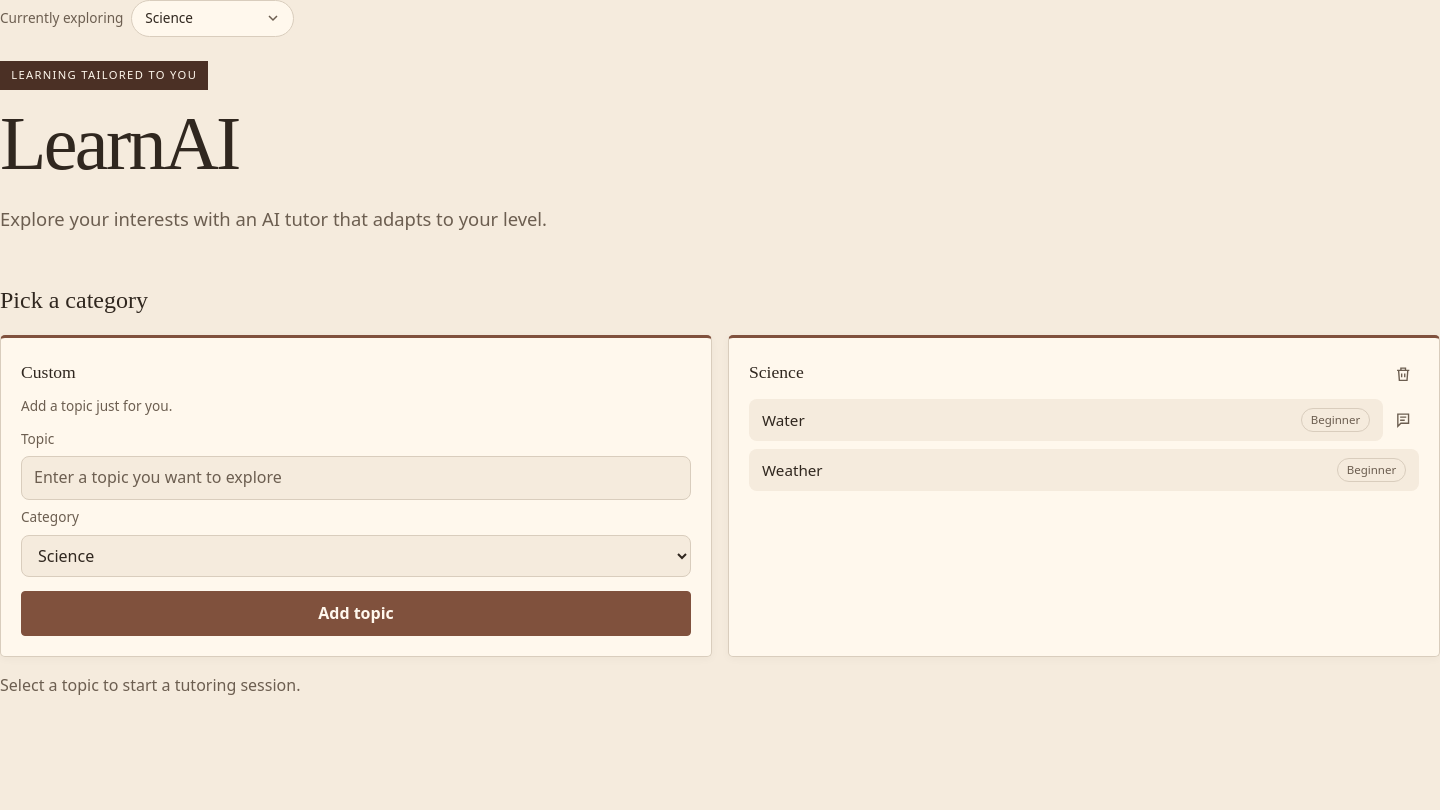
Scenario: previews a saved note without opening the tutor and closes with Escape
Click the button named "Notes for Water": (1403, 420) [1387,404,1419,436]
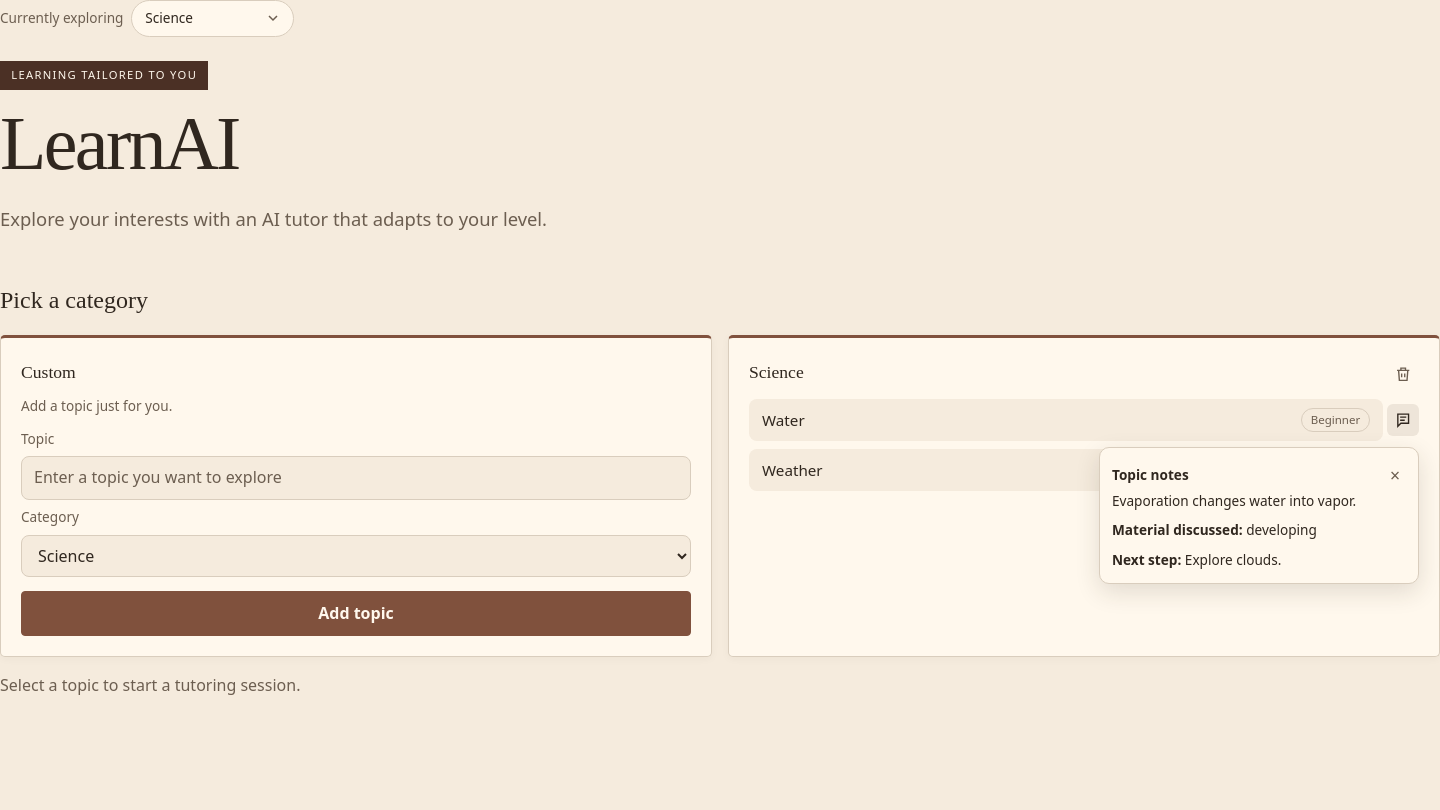
Result: the text "Evaporation changes water into vapor." is shown at [1112,491,1356,510]
Result: the text "Next step: Explore clouds." is shown at [1112,550,1281,569]
Result: the button named "Notes for Water" is expanded at [1387,404,1419,436]
Press Escape
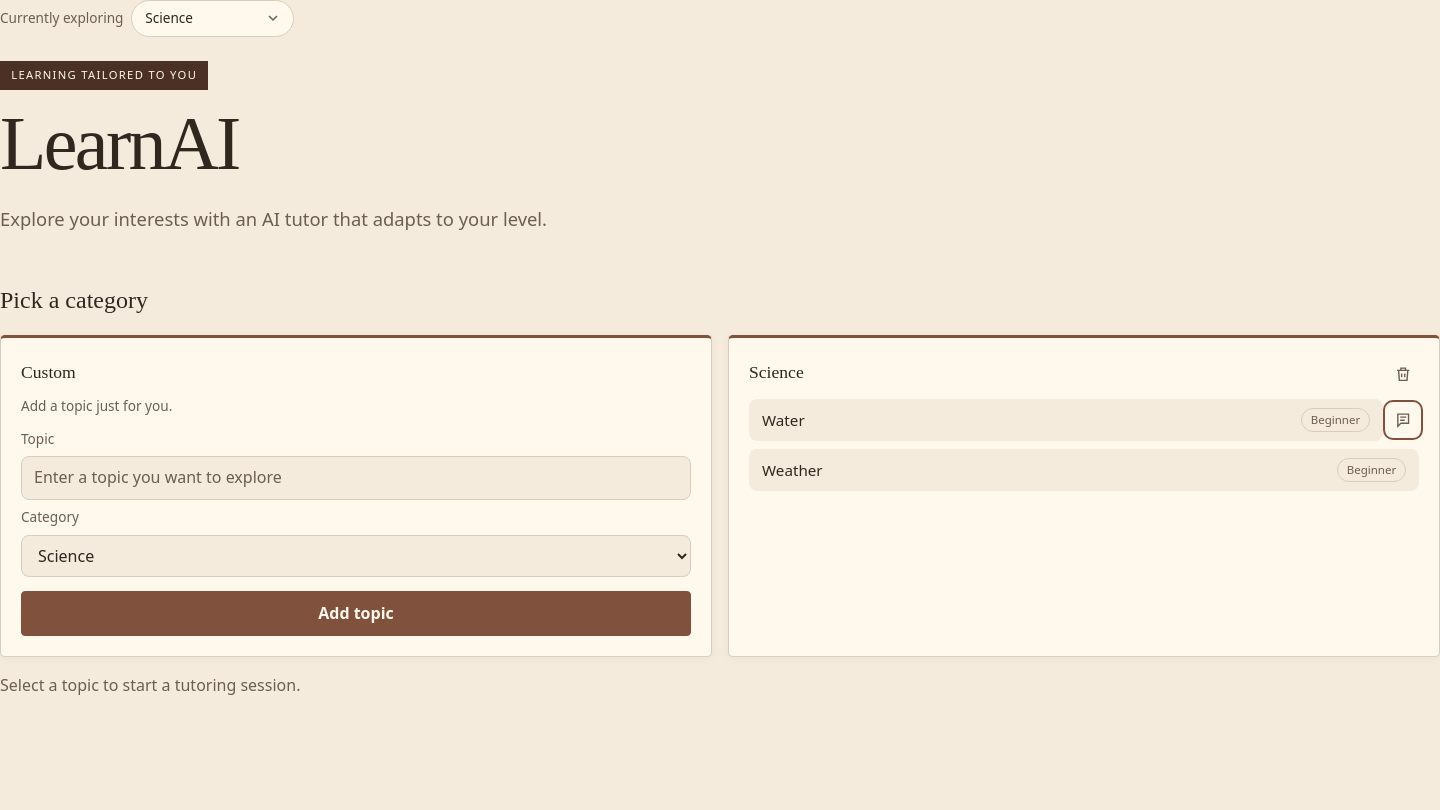
Result: the dialog is gone
Result: the button named "Notes for Water" is collapsed at [1387,404,1419,436]
